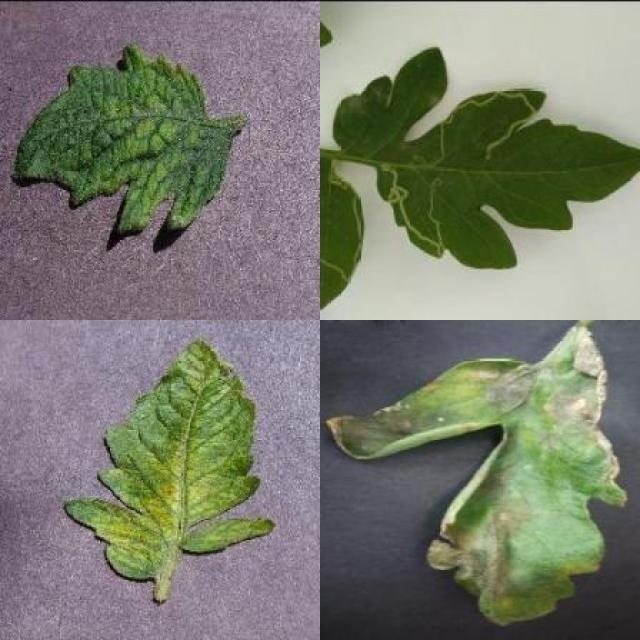Late Blight: (323, 320, 630, 627)
Leaf Miner: (333, 43, 640, 268)
Mosaic Virus: (65, 338, 275, 582), (8, 45, 232, 234)
